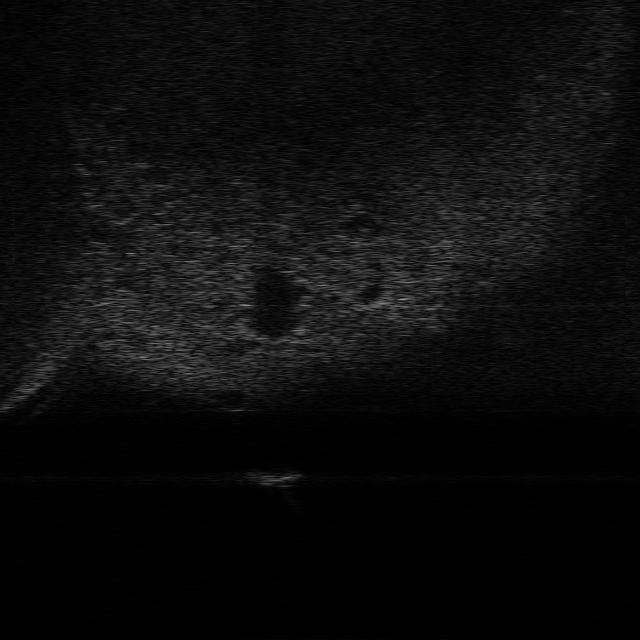cube: (242, 471, 308, 488)
